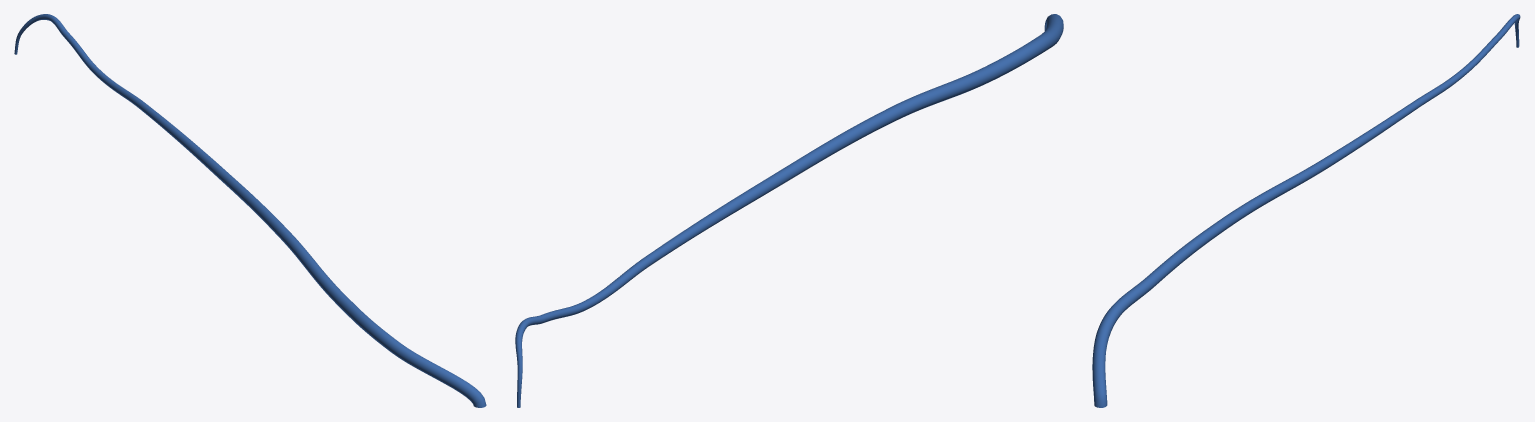
The picture shows the model from 3 angles, left to right: view 1: azimuth 30°, elevation 25°; view 2: azimuth 150°, elevation 25°; view 3: azimuth 330°, elevation 25°; orthographic projection. The views are drawn at different scales.
Visible parts, largest first — view 1: 右侧腓静脉; view 2: 右侧腓静脉; view 3: 右侧腓静脉.
Boxes of the visible parts, x1,y1,x2,y2 form: 右侧腓静脉: (14,14,486,407); 右侧腓静脉: (515,14,1063,407); 右侧腓静脉: (1092,14,1520,407).
Bounding box in the file's own units: 0.0345 × 0.0478 × 0.4736.
